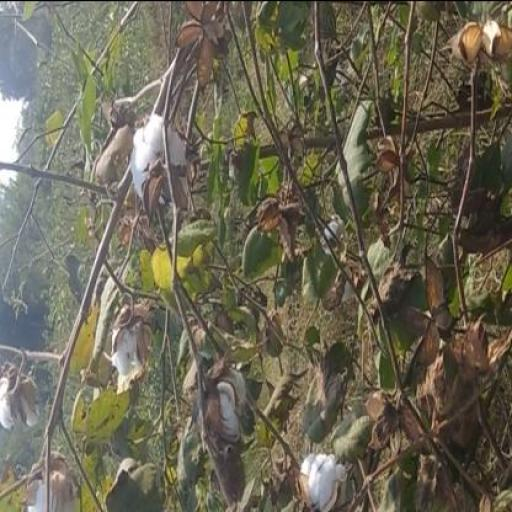cotton_ready: (106, 287, 160, 381), (128, 118, 182, 200), (192, 348, 244, 431), (298, 448, 347, 512), (0, 362, 43, 426)
